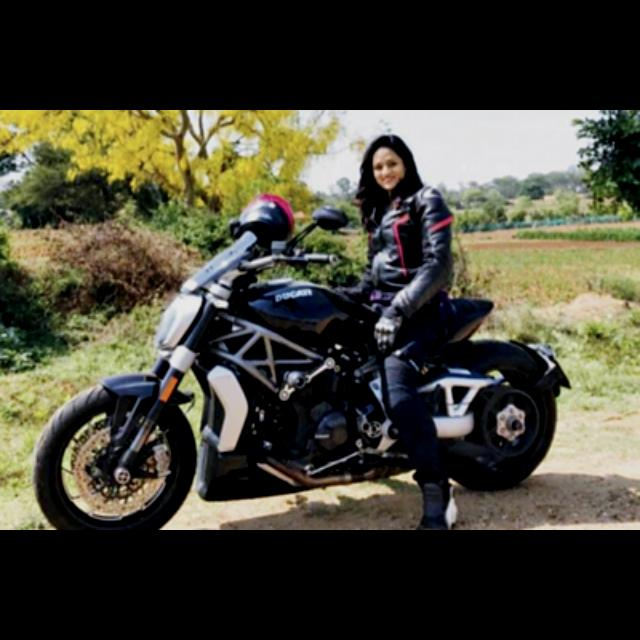Without Helmet: (358, 130, 418, 197)
